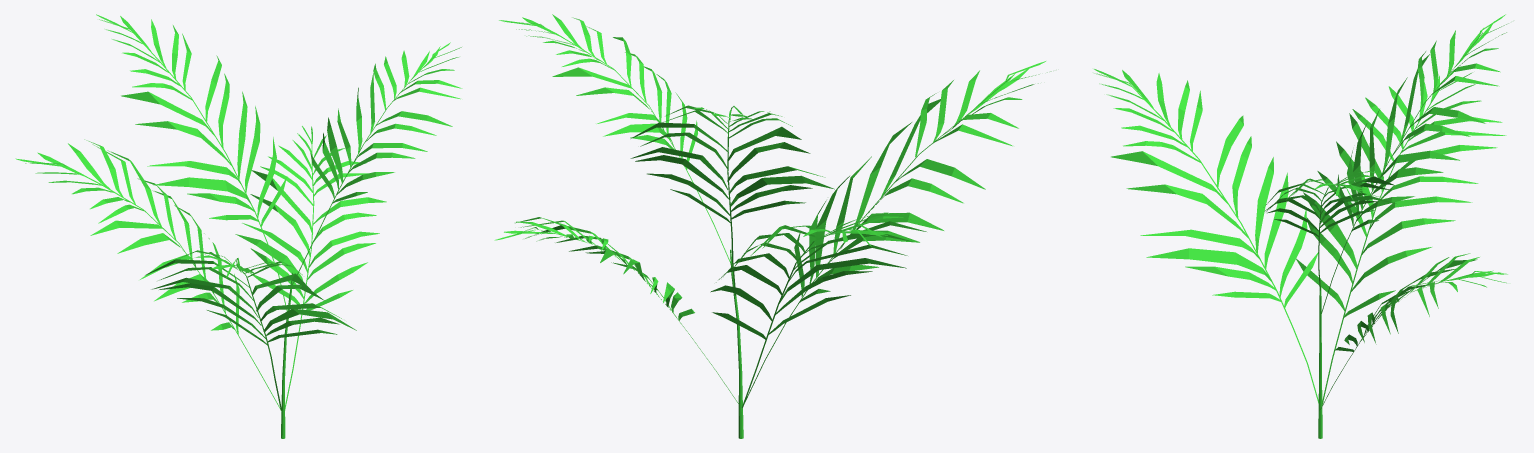
File: Areca_Palm_01.fbx
3 renders of one model, left to right at view 1: azimuth 30°, elevation 25°; view 2: azimuth 150°, elevation 25°; view 3: azimuth 270°, elevation 25°, orthographic. The views are drawn at different scales.
Visible parts, largest first — view 1: Areca_Palm_01; view 2: Areca_Palm_01; view 3: Areca_Palm_01.
Part boxes in pixels (<box>): Areca_Palm_01: <box>15,14,462,438</box>; Areca_Palm_01: <box>494,14,1051,438</box>; Areca_Palm_01: <box>1094,14,1508,438</box>.
Size of the model in its own units: 157 by 144 by 148.
